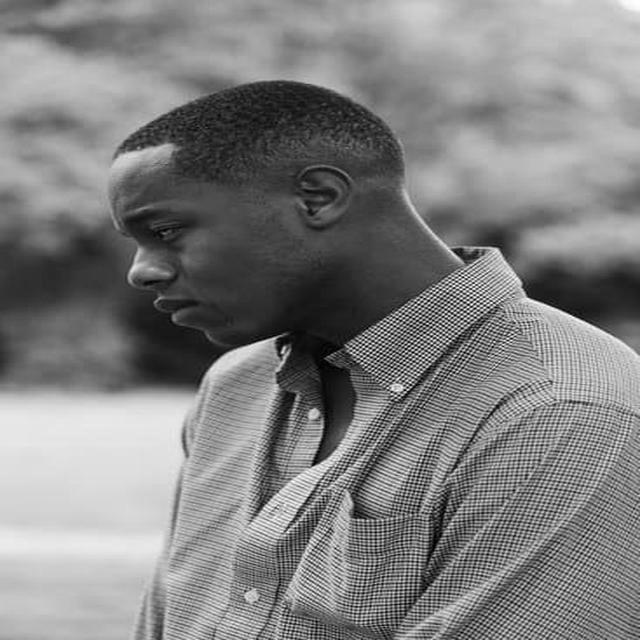Sadness: (109, 151, 288, 349)
